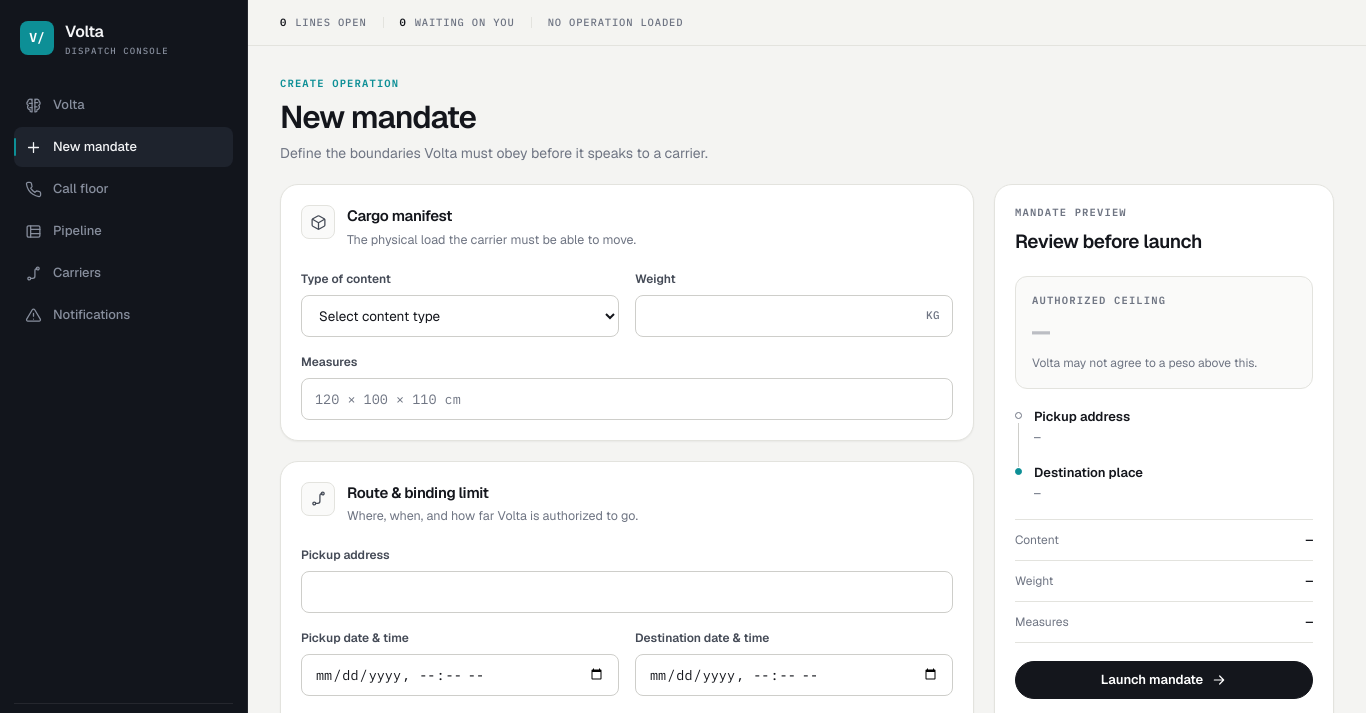
Scenario: DashboardConsole › shows persisted organization notifications from the drawer
Click the button "Notifications": (124, 315) [14,295,233,335]
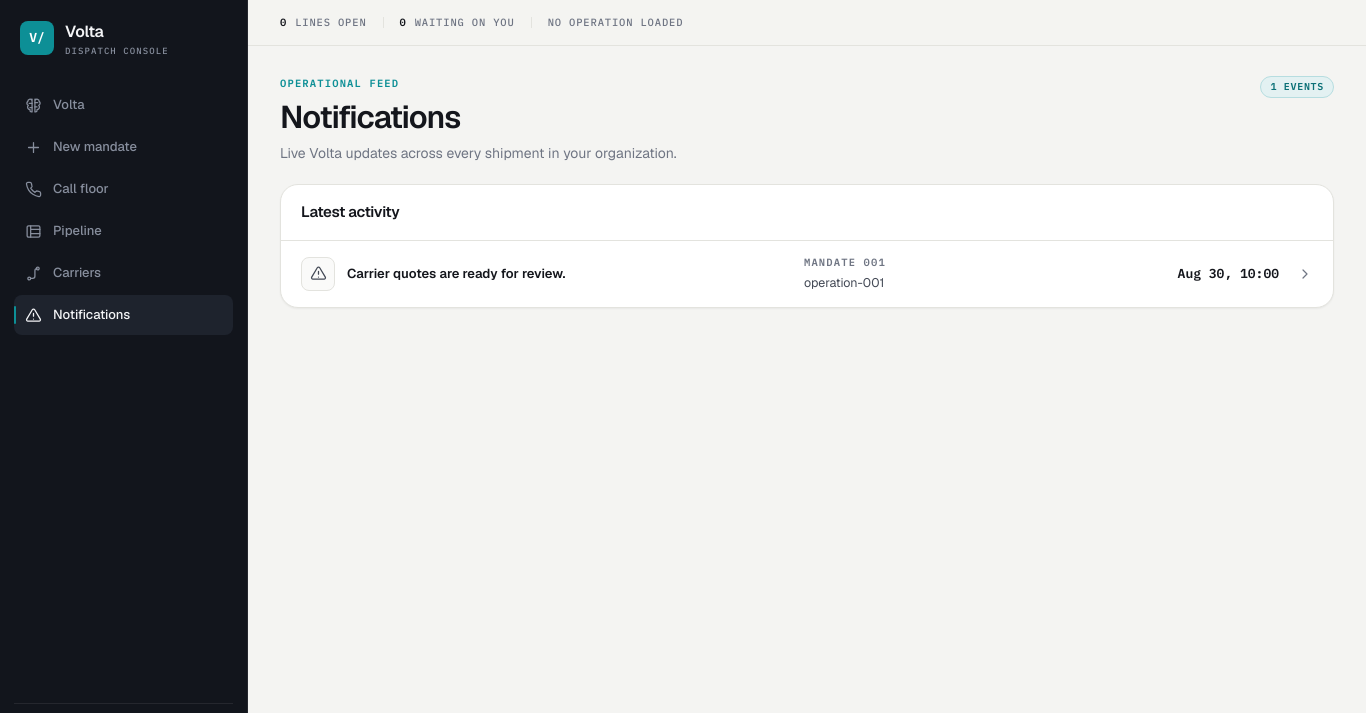
Check: the heading "Notifications" is shown, box [280,96,460,137]
Check: the text "Carrier quotes are ready for review." is shown, box [347,265,565,282]
